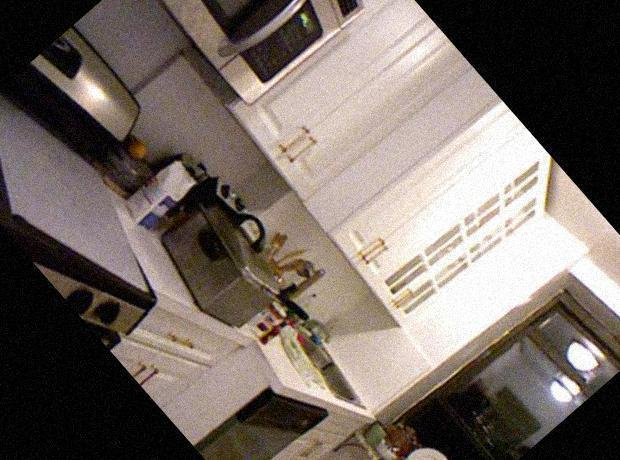Electrodomestico: (0, 26, 251, 348), (190, 368, 318, 460)
Lavaplatos: (275, 307, 390, 427)
